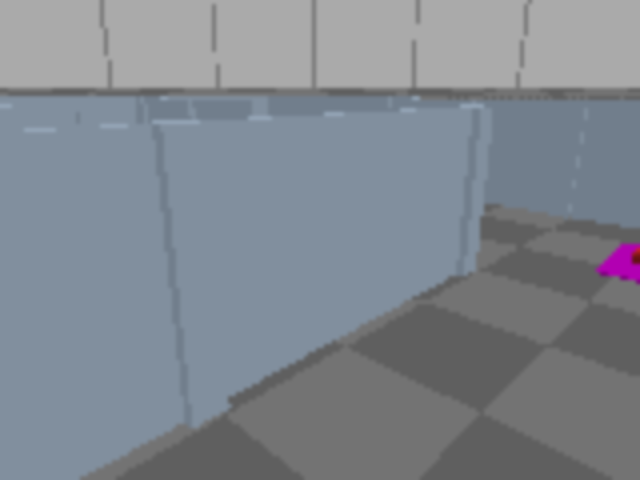goal_zone: (594, 243, 638, 311)
puck: (626, 246, 638, 268)
